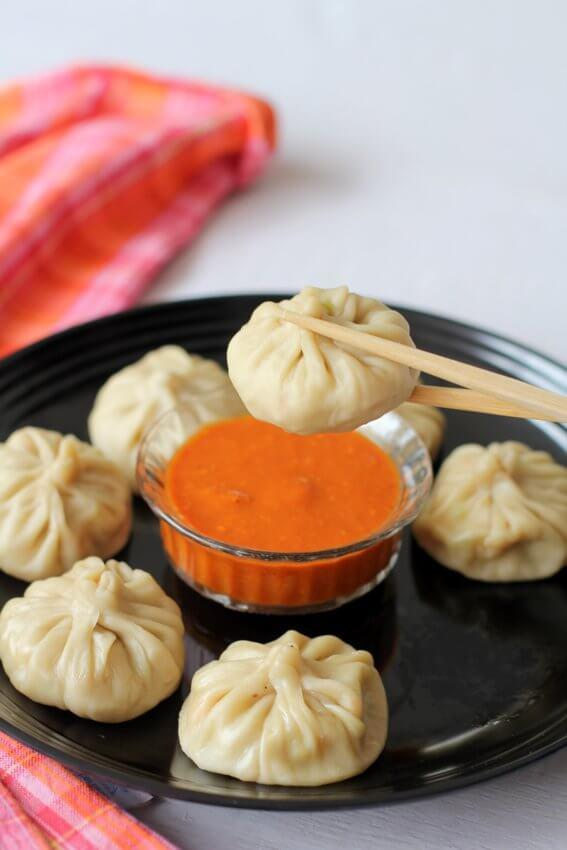momos: (178, 631, 388, 786), (0, 556, 184, 722), (227, 287, 418, 434), (88, 345, 241, 489), (413, 442, 566, 582), (0, 427, 131, 580), (362, 782, 370, 789)
